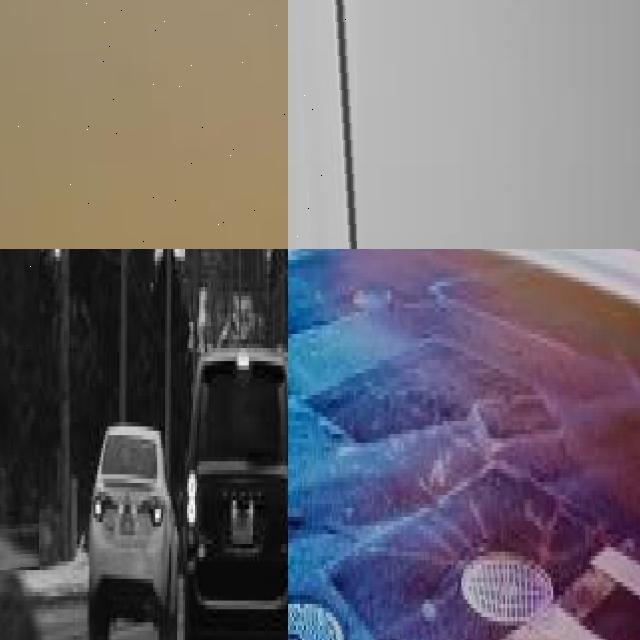street light: (0, 0, 288, 249), (63, 249, 141, 552), (288, 0, 358, 249), (0, 249, 39, 570)
